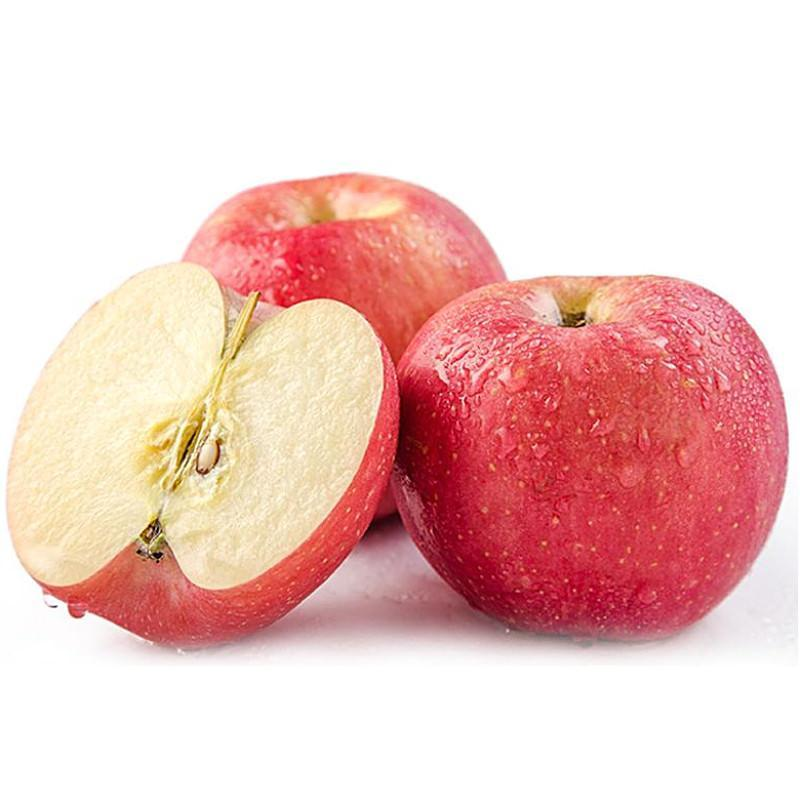apple: (3, 272, 419, 650), (397, 273, 789, 646), (176, 168, 507, 364)
